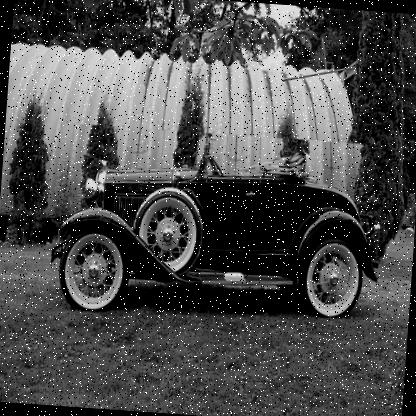Car: (48, 123, 387, 333)
